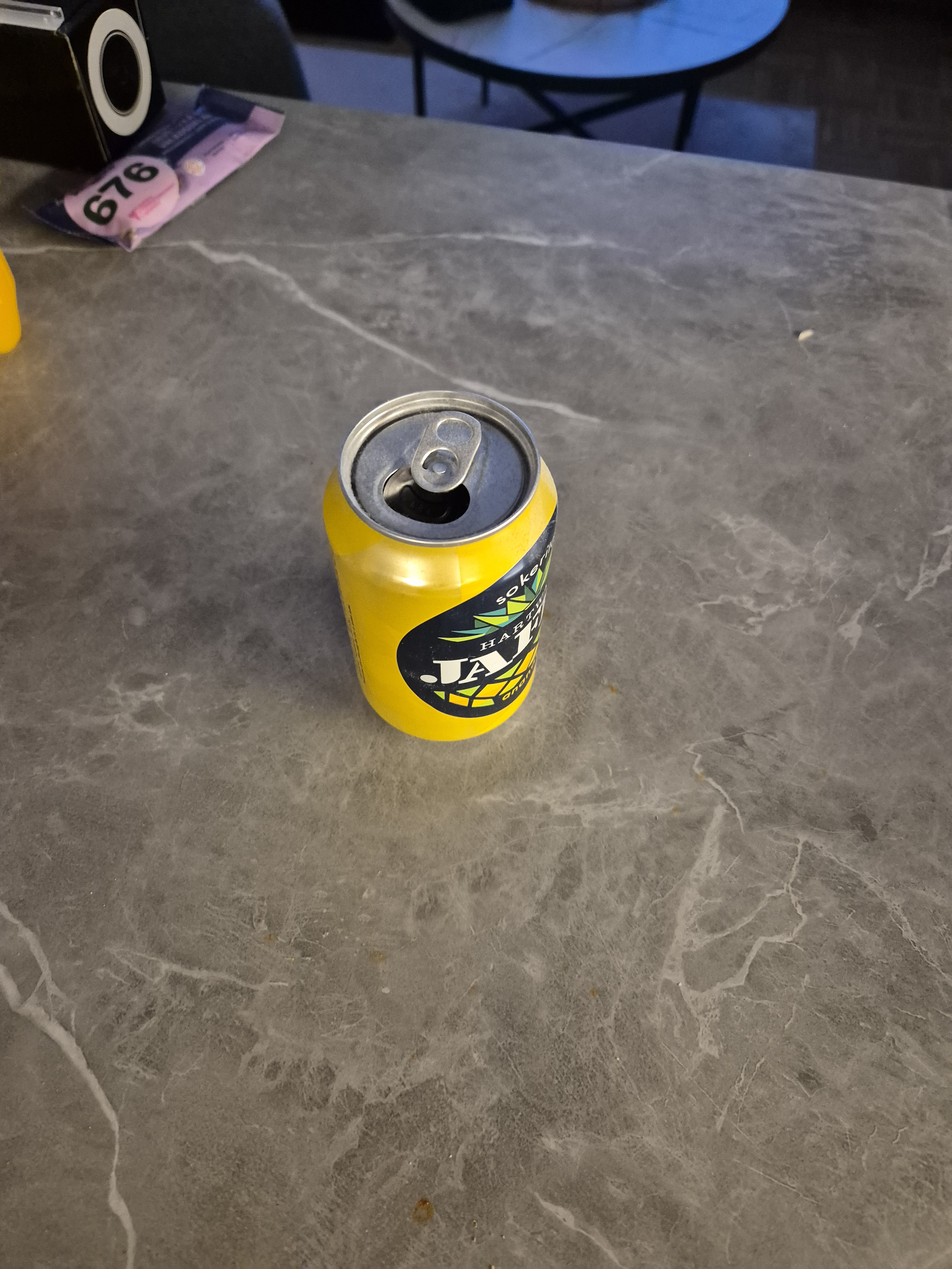Pantburk: (321, 388, 559, 742)
